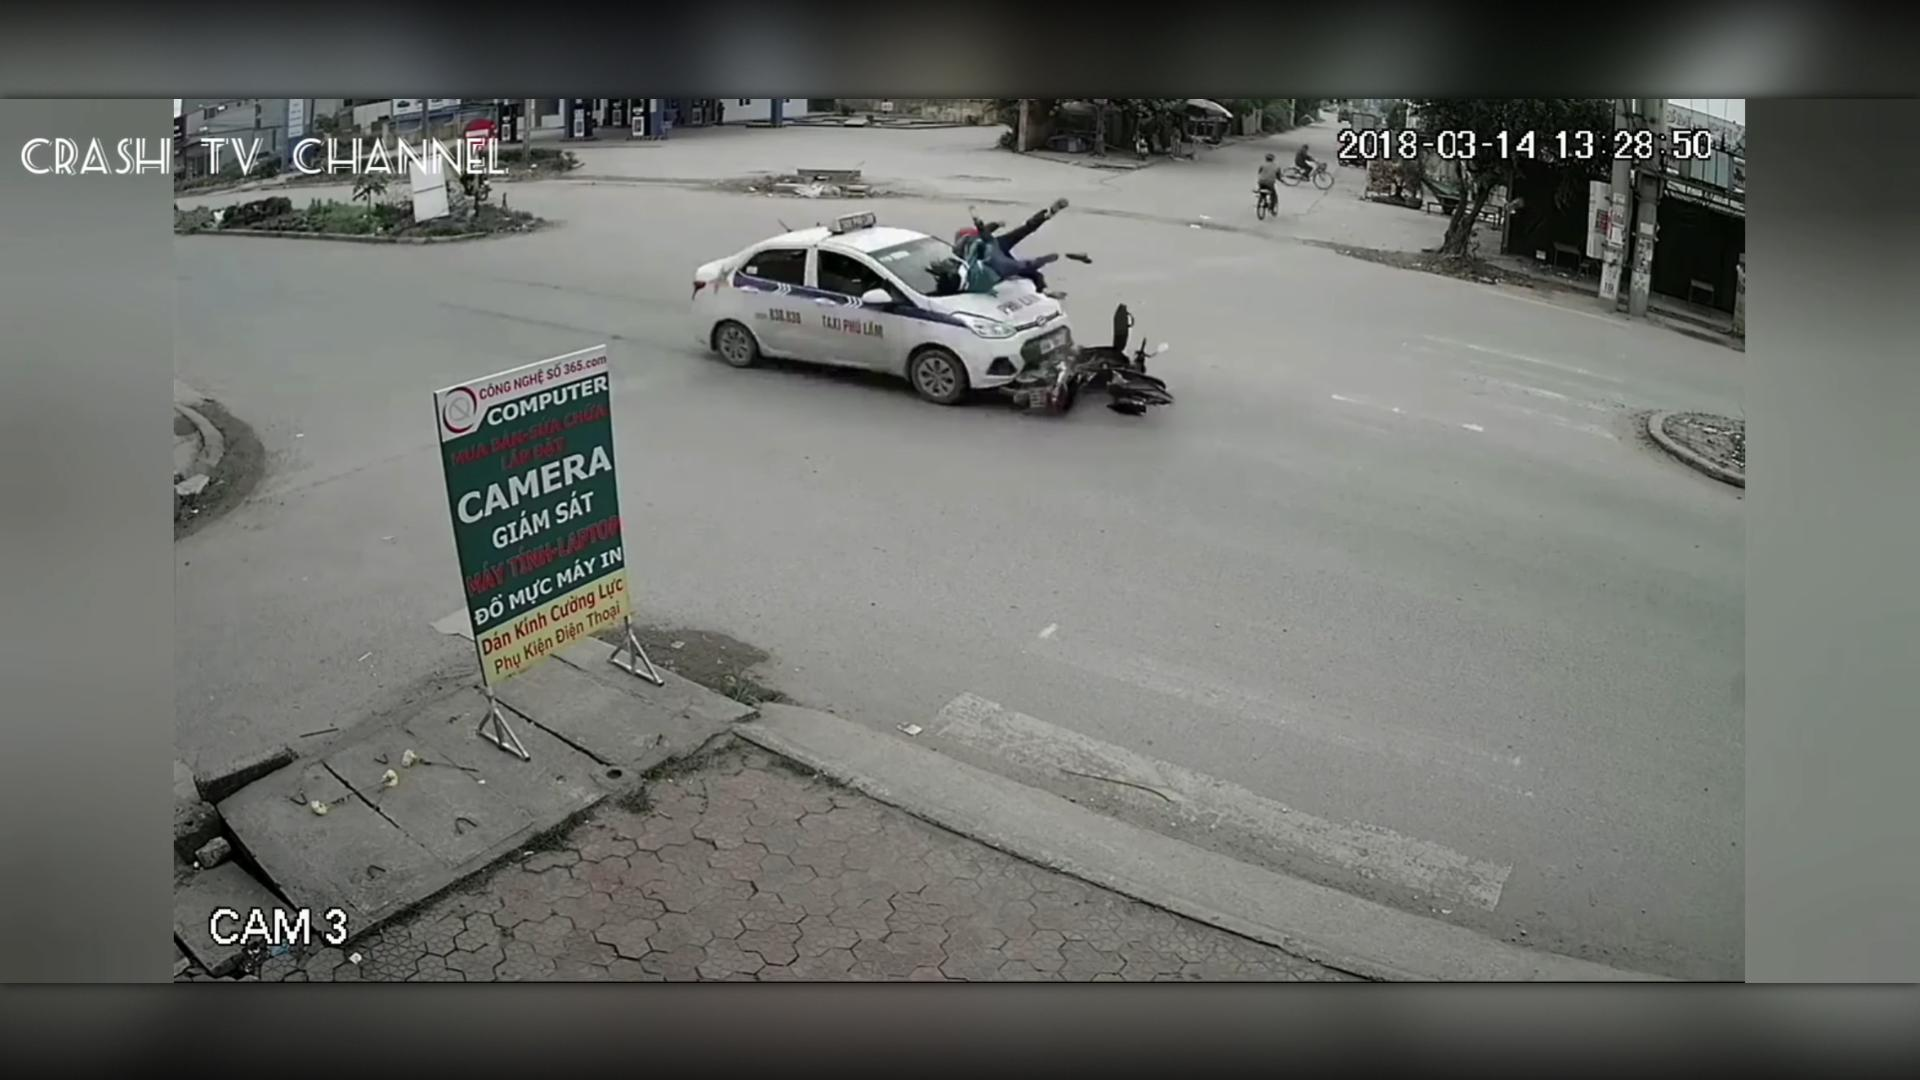accident: (678, 174, 1196, 434), (1009, 301, 1176, 425), (938, 203, 1091, 293)
car: (688, 203, 1089, 405)
